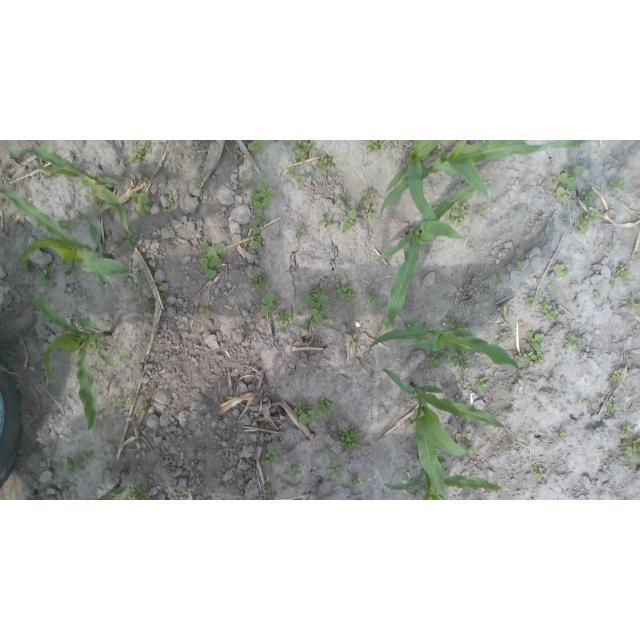Maize: (382, 366, 515, 500), (1, 189, 144, 303), (378, 141, 584, 212), (376, 186, 477, 327), (27, 290, 118, 433), (2, 144, 134, 236), (367, 319, 528, 390), (383, 457, 502, 500), (383, 141, 439, 224), (85, 481, 127, 500)
Weeds: (302, 285, 330, 326), (200, 241, 228, 280), (248, 179, 276, 216), (338, 424, 364, 453), (524, 331, 545, 366), (616, 438, 640, 467), (576, 208, 601, 234), (447, 197, 469, 226), (62, 452, 90, 474), (128, 142, 153, 166), (559, 164, 583, 188), (291, 140, 314, 165), (423, 348, 451, 368), (248, 270, 273, 292), (264, 444, 283, 469), (125, 482, 151, 500), (132, 192, 150, 217), (245, 227, 263, 252), (449, 345, 469, 367), (333, 282, 356, 301), (260, 292, 277, 316), (540, 303, 561, 322), (329, 461, 346, 484), (318, 396, 336, 417), (291, 398, 313, 415), (342, 209, 358, 232), (298, 410, 322, 425), (36, 266, 53, 285), (317, 154, 334, 173), (565, 333, 584, 349), (276, 309, 291, 328), (319, 208, 333, 228), (531, 464, 547, 481), (609, 179, 627, 194), (359, 190, 377, 205), (579, 189, 596, 204), (289, 461, 304, 478), (247, 140, 265, 154), (522, 292, 538, 307), (552, 263, 568, 278), (556, 186, 569, 204), (122, 235, 137, 250), (59, 219, 77, 231), (367, 140, 385, 152), (617, 265, 631, 280), (618, 425, 634, 438), (18, 257, 34, 270), (361, 208, 376, 221), (610, 367, 623, 381), (432, 144, 446, 157), (87, 363, 100, 377), (512, 351, 527, 363), (300, 320, 316, 331), (382, 318, 395, 331), (143, 300, 156, 313), (476, 375, 488, 389), (294, 171, 306, 185), (609, 276, 622, 288), (255, 215, 267, 228), (451, 324, 470, 332), (447, 315, 459, 327), (628, 296, 640, 308), (367, 290, 379, 302), (512, 259, 524, 271), (137, 403, 148, 416), (89, 341, 98, 356), (63, 265, 75, 276), (296, 227, 307, 239), (111, 396, 121, 409), (127, 394, 137, 406), (450, 395, 463, 404), (549, 175, 560, 185), (119, 350, 130, 360), (286, 165, 296, 176), (546, 377, 557, 387), (467, 440, 476, 452), (609, 402, 619, 412), (200, 307, 211, 316), (336, 199, 345, 210), (378, 300, 389, 309), (418, 333, 432, 340), (478, 203, 487, 213), (500, 331, 509, 341), (295, 308, 305, 317), (406, 420, 417, 428), (167, 197, 175, 208), (351, 476, 360, 485), (560, 430, 569, 439), (632, 187, 640, 196), (153, 279, 161, 288), (94, 201, 102, 210), (542, 292, 550, 301), (240, 180, 248, 189), (44, 171, 53, 179), (506, 442, 514, 450), (11, 219, 19, 227), (350, 335, 358, 343), (593, 291, 601, 299), (609, 240, 616, 249), (59, 480, 70, 485), (566, 216, 571, 226), (200, 188, 207, 193), (497, 280, 504, 284), (399, 308, 404, 313), (52, 412, 57, 416), (600, 397, 605, 401), (416, 492, 419, 497)
